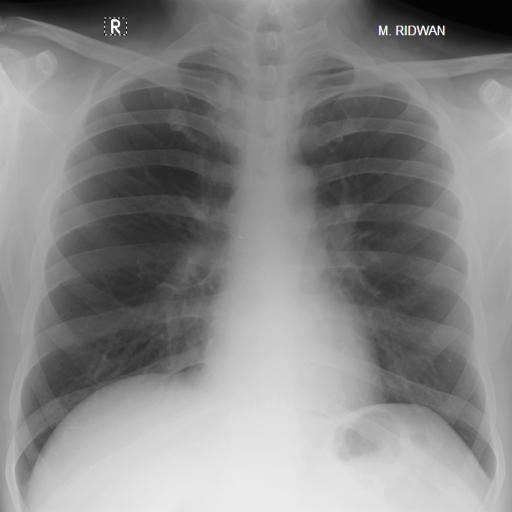normal: (7, 22, 507, 501)
